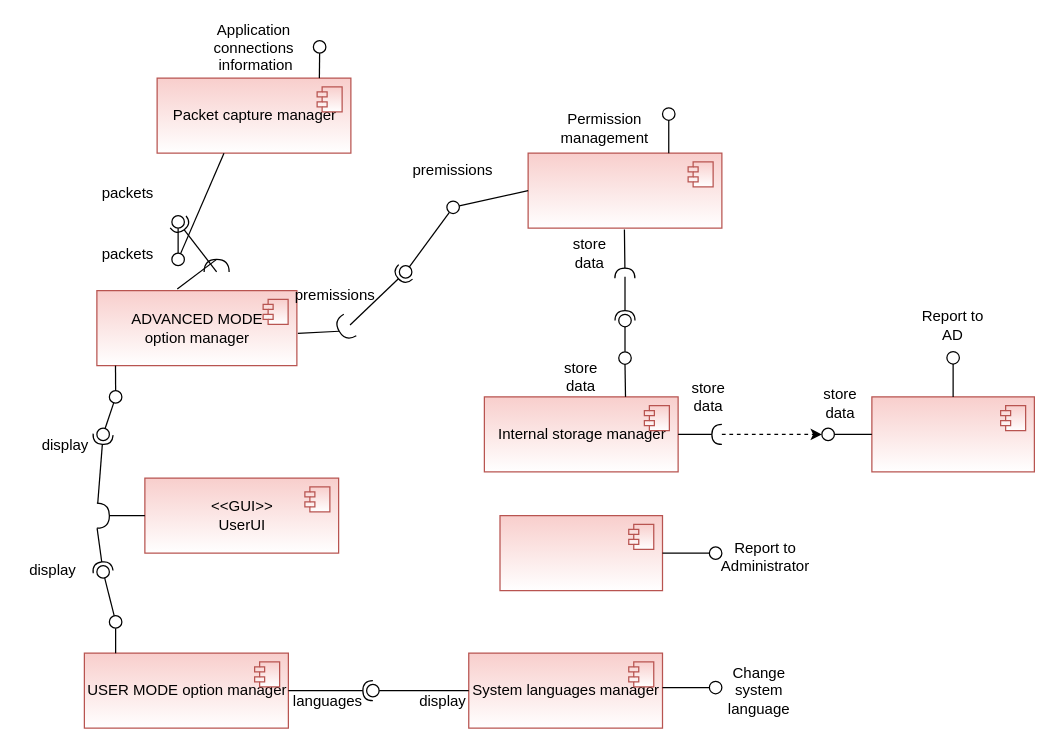
Some shapes in this 1056 by 750 pixel diagram are drawn without their labels. Here are the shapes that lost their labels. From the top down, the box of each, then its label:
(527, 152, 722, 228): Permission manager
(871, 396, 1034, 472): DB manager
(499, 514, 662, 591): Report manager
